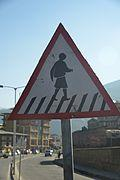Pedestrian Crossing: (7, 18, 118, 127)
